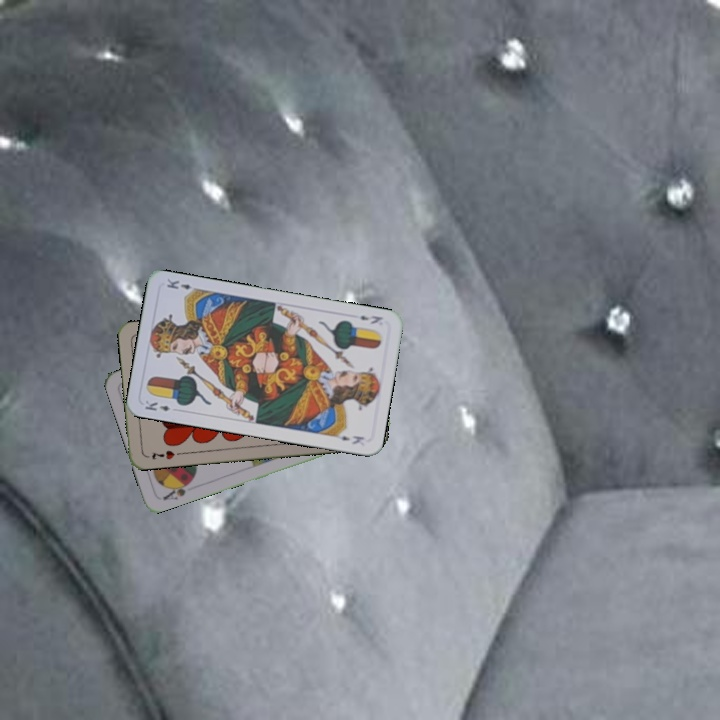EK: (141, 396, 173, 414), (356, 311, 385, 327)
H7: (148, 446, 177, 462)
SA: (159, 476, 194, 503)
